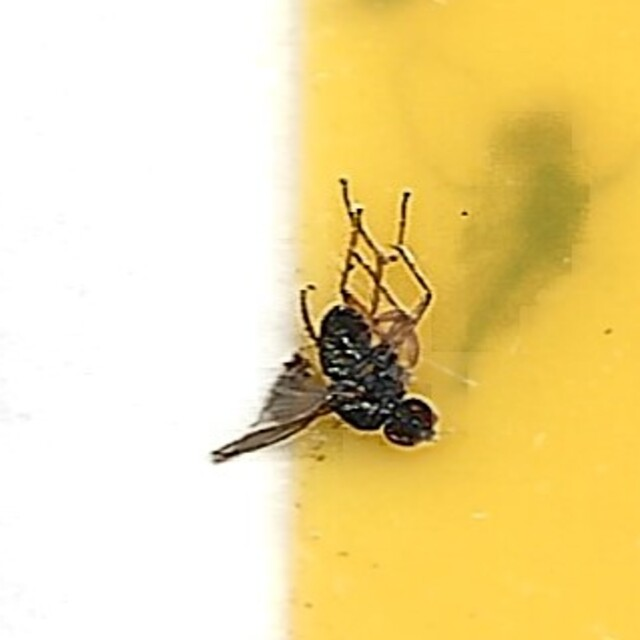Brachycera: (201, 177, 439, 463)
